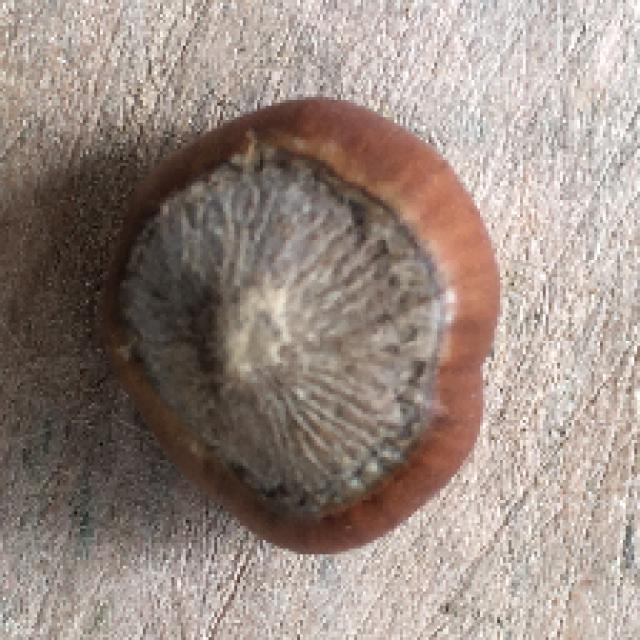damagedHazelnut: (89, 88, 512, 563)
